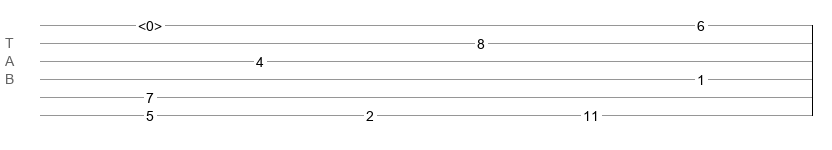1: (697, 72, 705, 82)
11: (583, 108, 599, 118)
2: (366, 108, 374, 118)
4: (256, 54, 264, 64)
5: (146, 108, 154, 118)
6: (697, 18, 705, 28)
7: (146, 90, 154, 100)
8: (477, 36, 485, 46)
harmonic: (138, 18, 162, 28)
